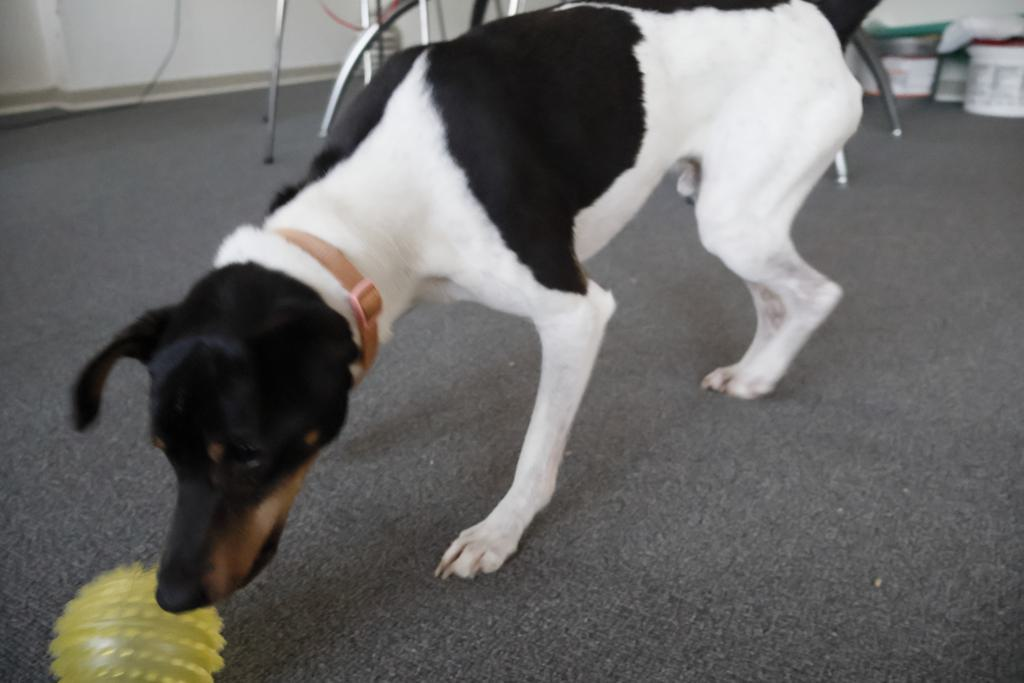Dog: (58, 0, 896, 622)
